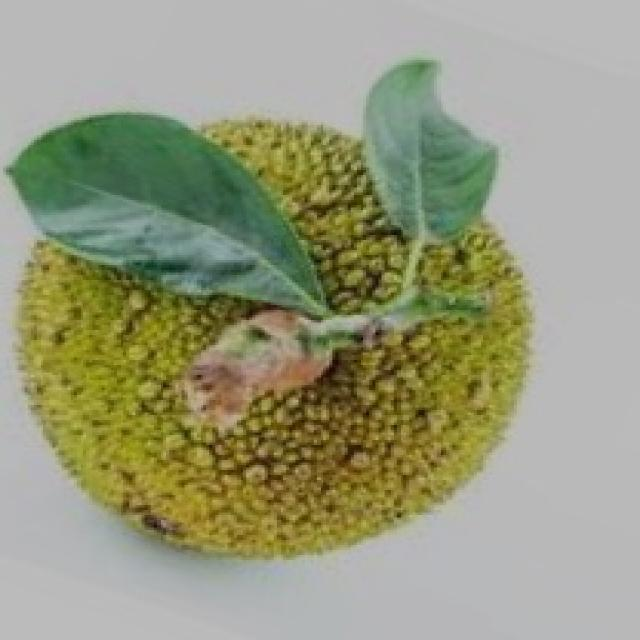Fruit: (182, 255, 576, 587)
